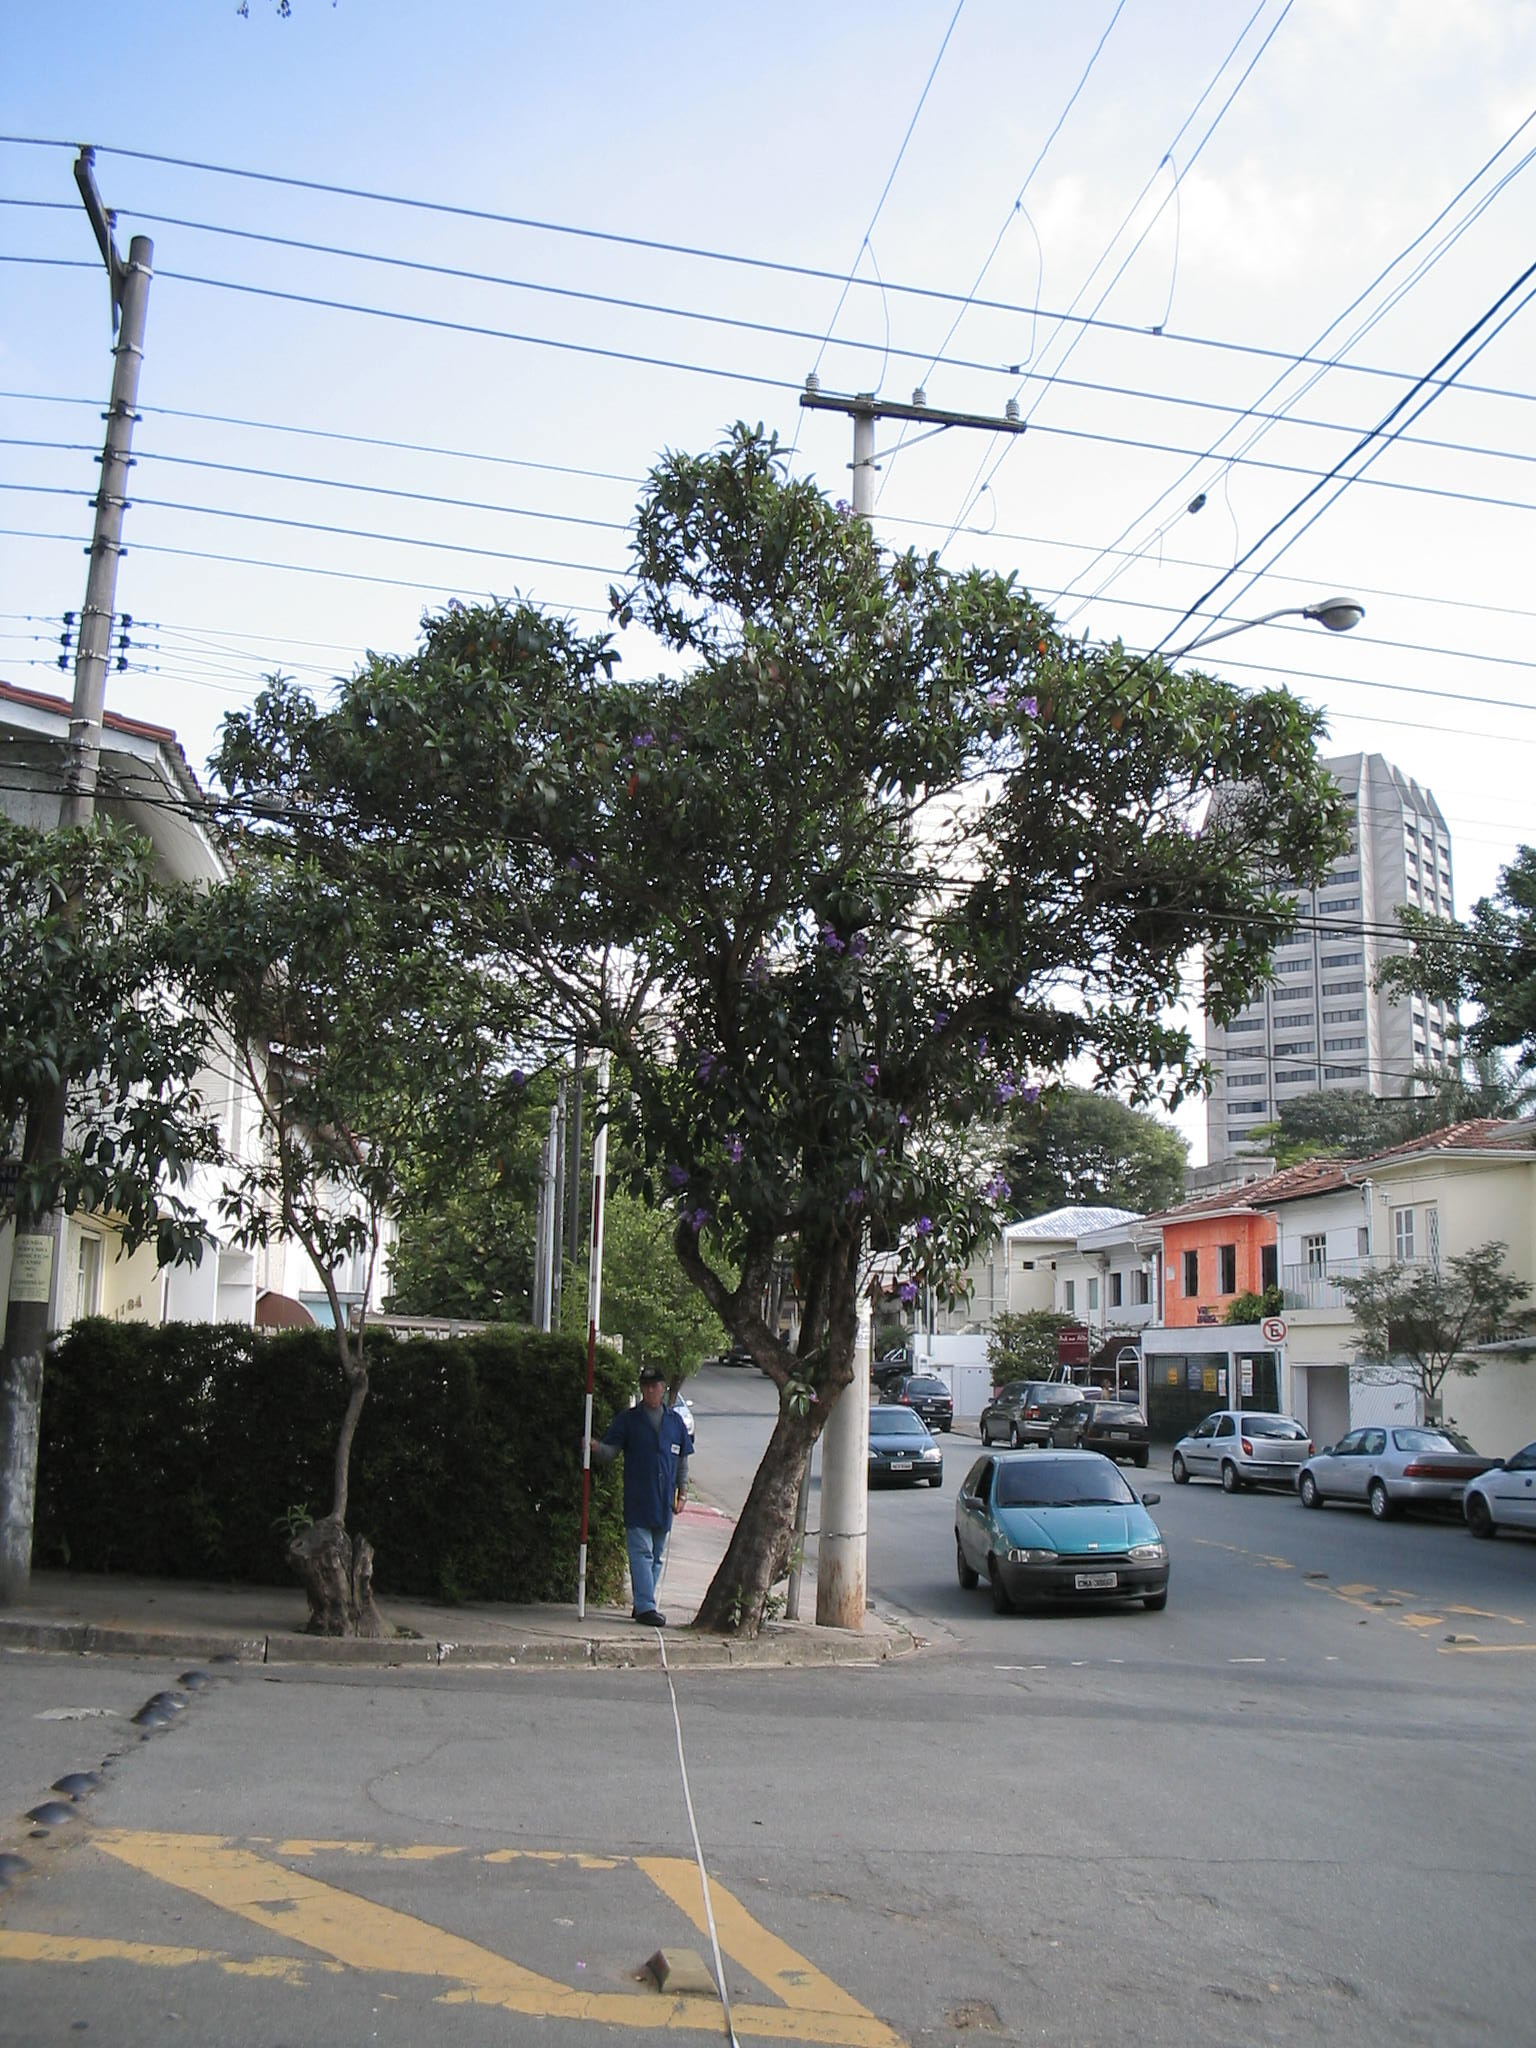crown: (211, 432, 1334, 1340)
stem: (692, 1380, 850, 1640)
stick: (570, 1177, 618, 1621)
tree: (207, 423, 1334, 1640)
